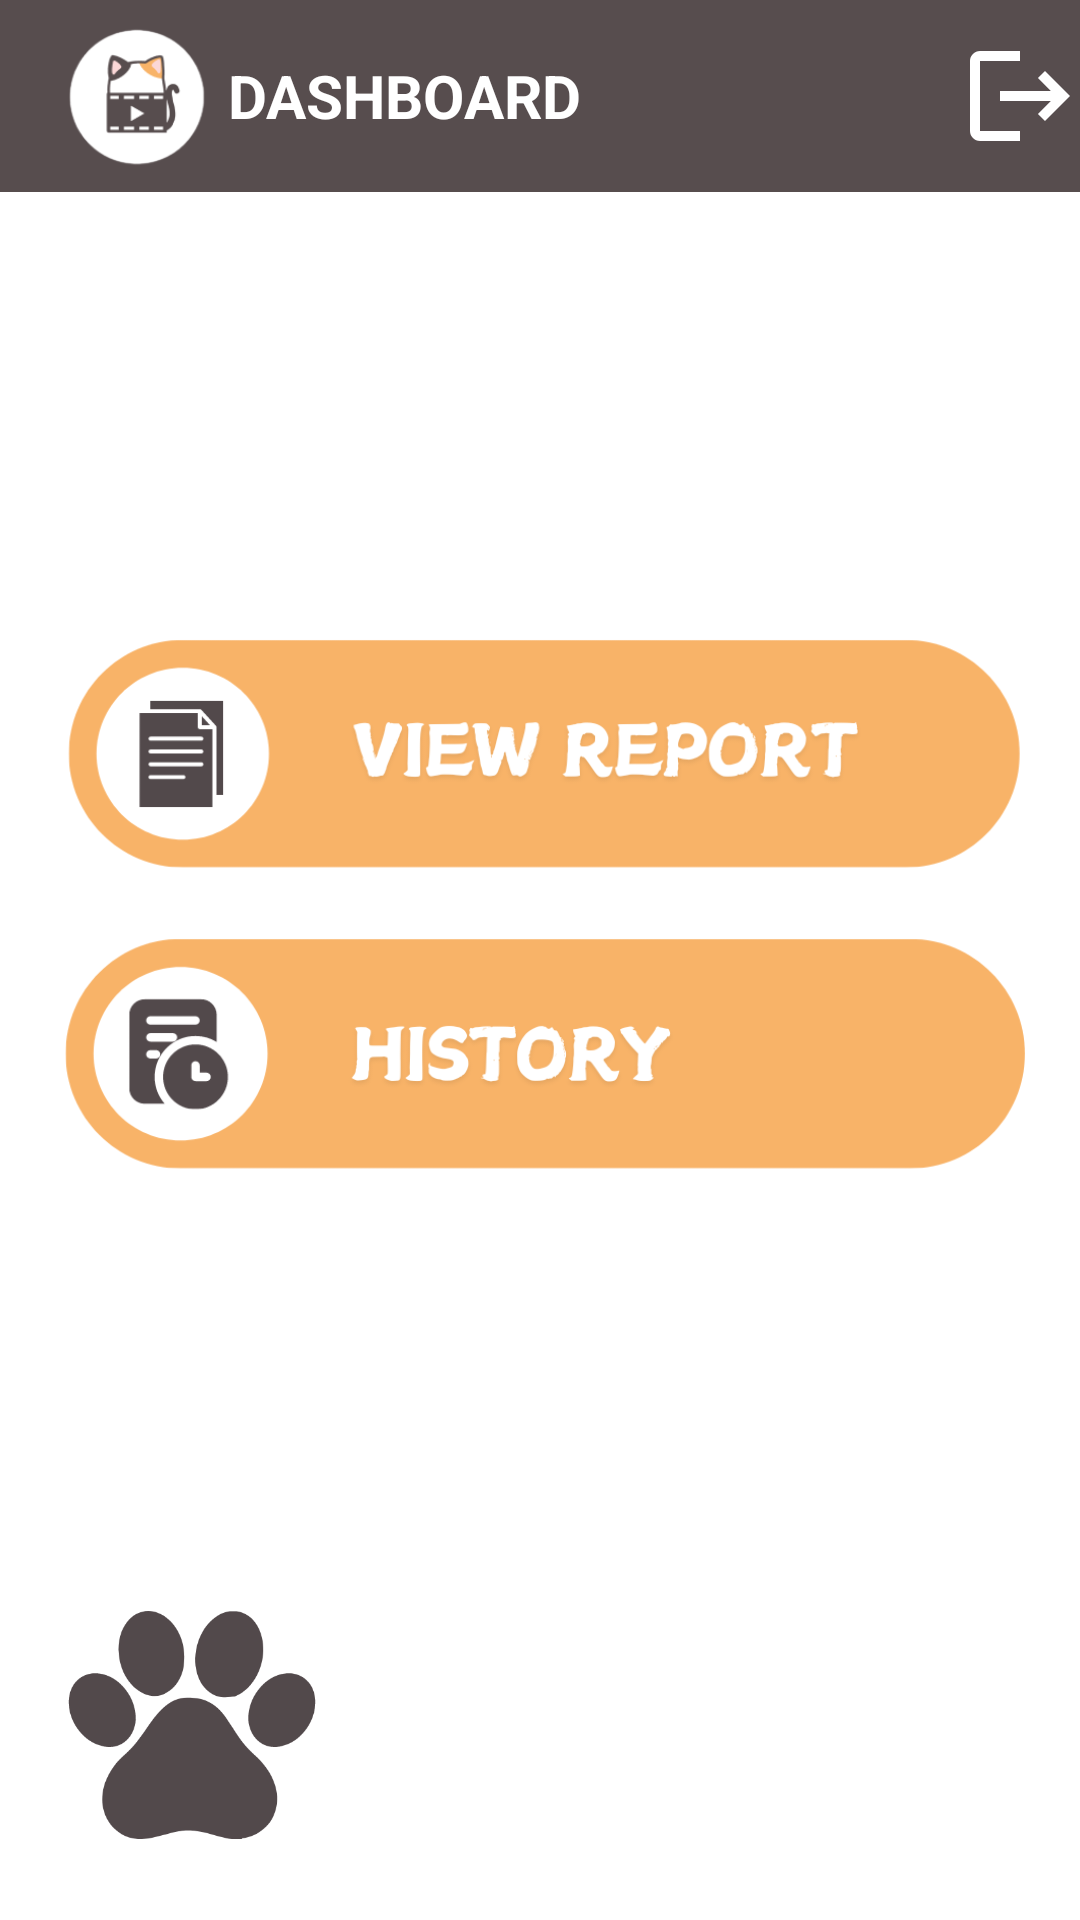

Icon click points for this 1080w x 1920h phone screenshot, format (x=x, y=y):
paw: (x=192, y=1725)
